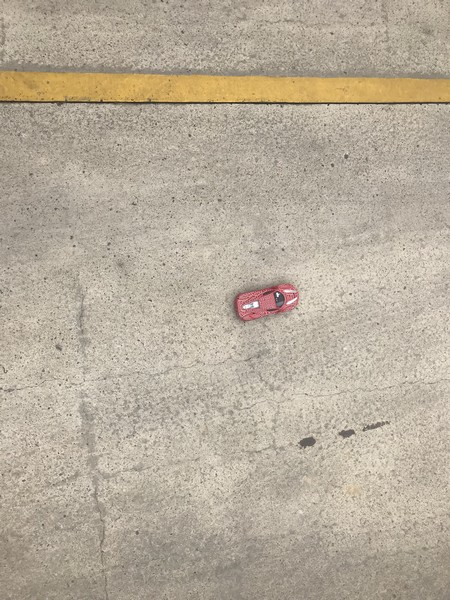RC: (233, 283, 302, 321)
